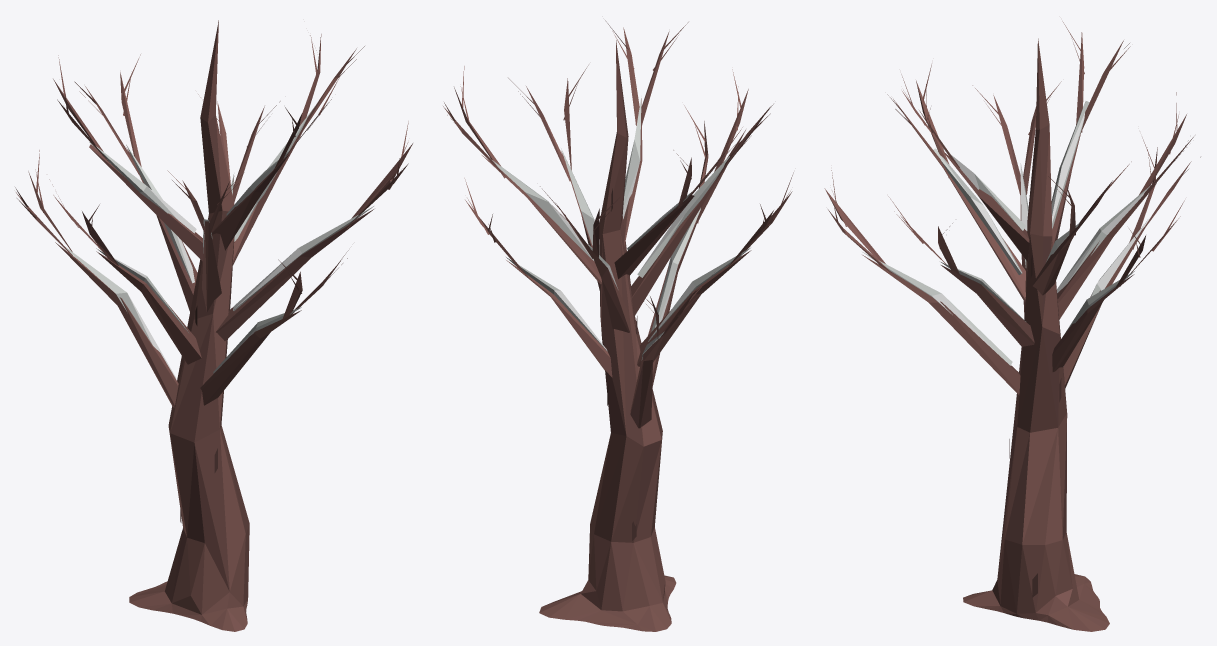
Rendered from cherry_wild_winter.glb.
3 views of the same model, side by side, from view 1: azimuth 30°, elevation 25°; view 2: azimuth 150°, elevation 25°; view 3: azimuth 270°, elevation 25° (orthographic). The views are drawn at different scales.
Visible parts, largest first — view 1: branches, snow; view 2: branches, snow; view 3: branches, snow.
Boxes of the visible parts, left/top/right/bottom form: branches: left=15, top=20, right=412, bottom=631; snow: left=55, top=106, right=373, bottom=378; branches: left=443, top=20, right=793, bottom=631; snow: left=492, top=96, right=750, bottom=360; branches: left=824, top=21, right=1200, bottom=631; snow: left=862, top=101, right=1151, bottom=366.
Size of the model in its own units: 2.49 by 4.33 by 2.6.
